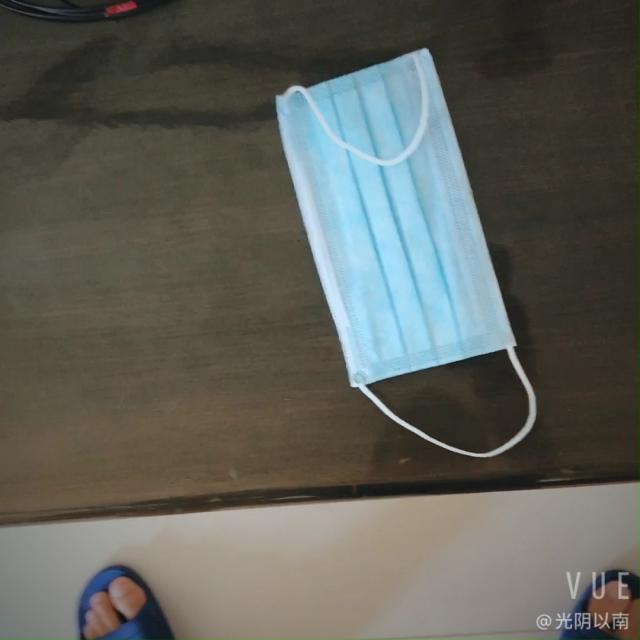non-organic waste: (254, 18, 527, 424)
